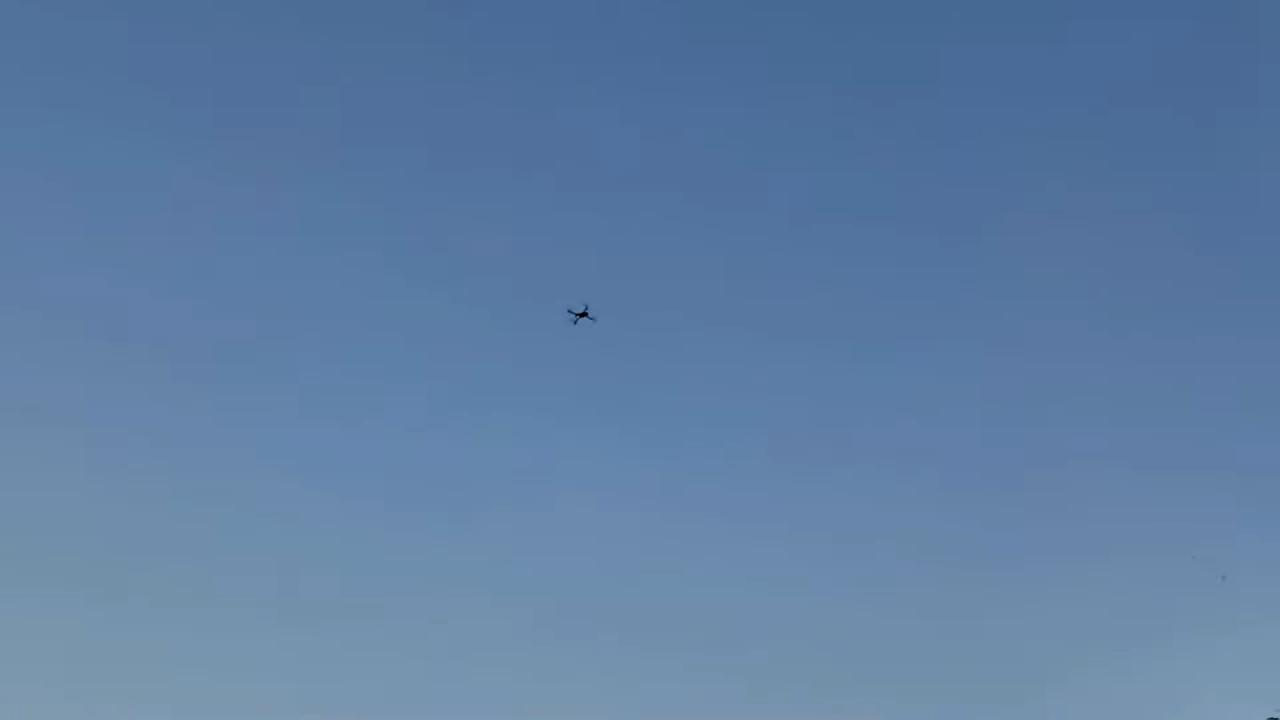Drone: (557, 299, 605, 332)
